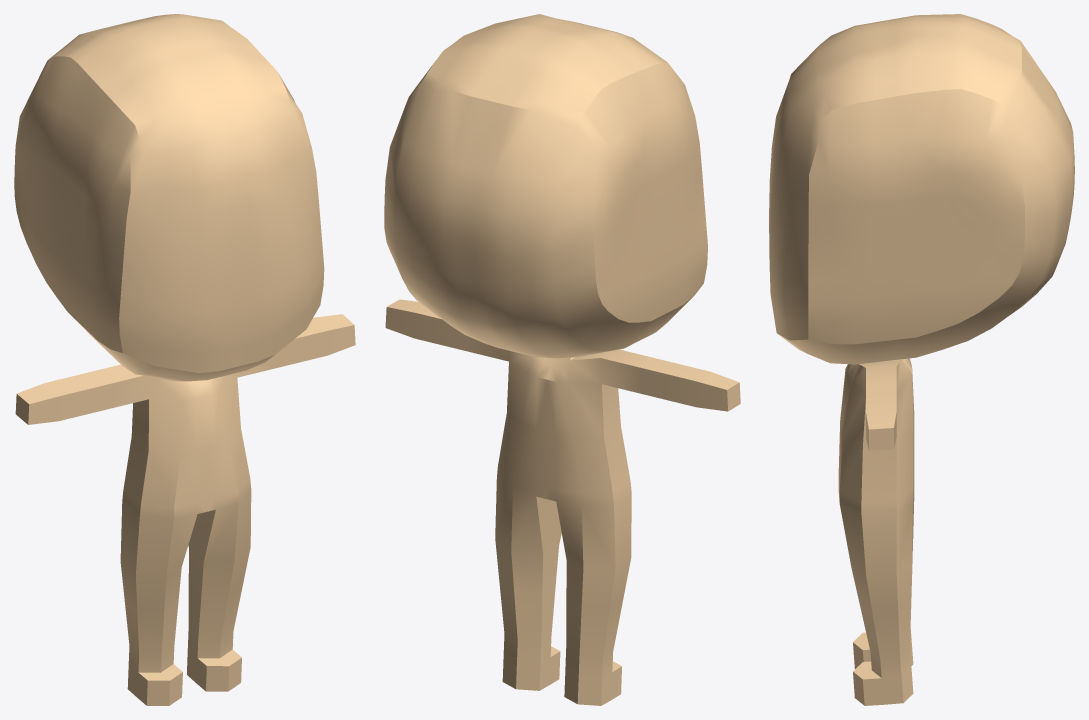
The model's file is Body.glb.
The picture shows the model from 3 angles, left to right: view 1: azimuth 30°, elevation 25°; view 2: azimuth 150°, elevation 25°; view 3: azimuth 270°, elevation 25°; orthographic projection. The views are drawn at different scales.
Visible parts, largest first — view 1: Body; view 2: Body; view 3: Body.
Boxes of the visible parts, x1,y1,x2,y2 form: Body: (14, 14, 355, 705); Body: (384, 14, 740, 705); Body: (769, 14, 1074, 705).
Bounding box in the file's own units: 0.9676 × 1.81 × 0.7686.
